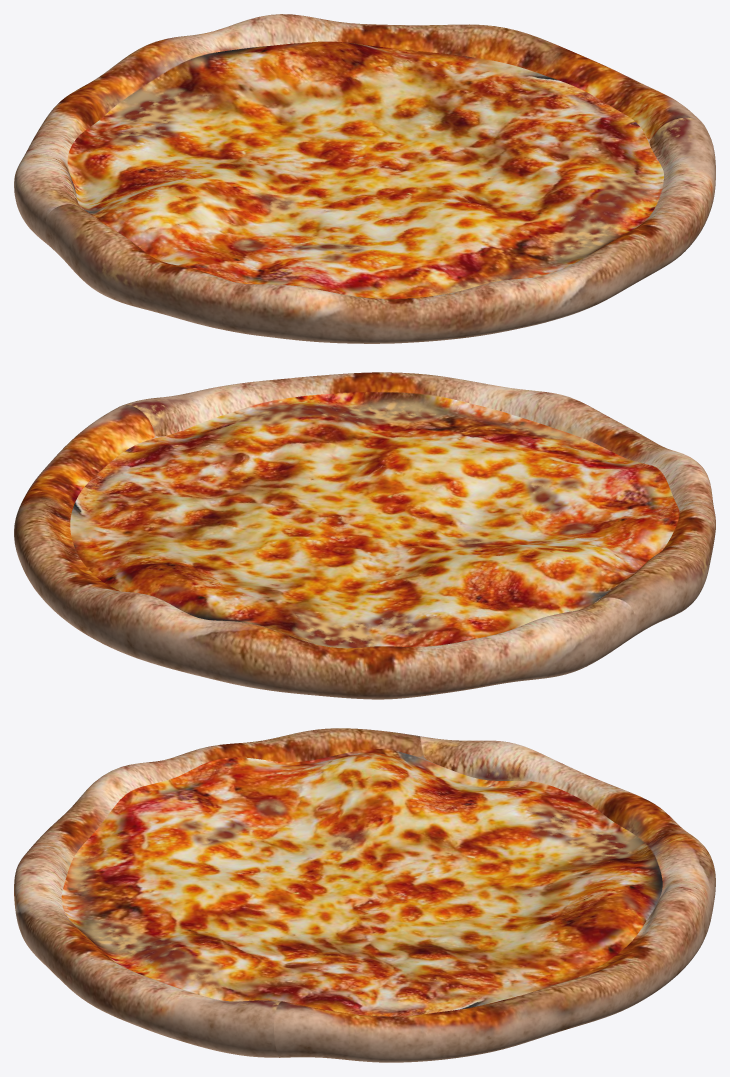
File: focaccia-figo.glb
The picture shows the model from 3 angles, top to bottom: view 1: azimuth 30°, elevation 25°; view 2: azimuth 150°, elevation 25°; view 3: azimuth 270°, elevation 25°; orthographic projection.
Visible parts, largest first — view 1: piza_low_01:Group259; view 2: piza_low_01:Group259; view 3: piza_low_01:Group259.
Boxes of the visible parts, <box> form: piza_low_01:Group259: <box>14,14,715,343</box>; piza_low_01:Group259: <box>14,372,715,699</box>; piza_low_01:Group259: <box>14,728,715,1062</box>.
Bounding box in the file's own units: 0.00793 × 0.000788 × 0.00791.
Materials: 1 (1 with a texture image).
